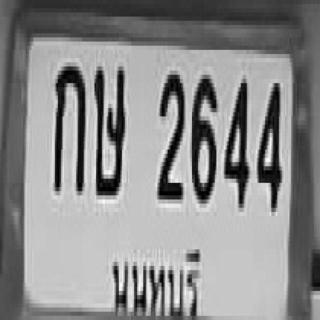A01: (53, 60, 84, 189)
A39: (93, 60, 124, 193)
N02: (156, 67, 183, 195)
N04: (222, 73, 247, 202), (256, 77, 280, 206)
N06: (190, 69, 215, 197)
P37: (108, 242, 208, 320)
